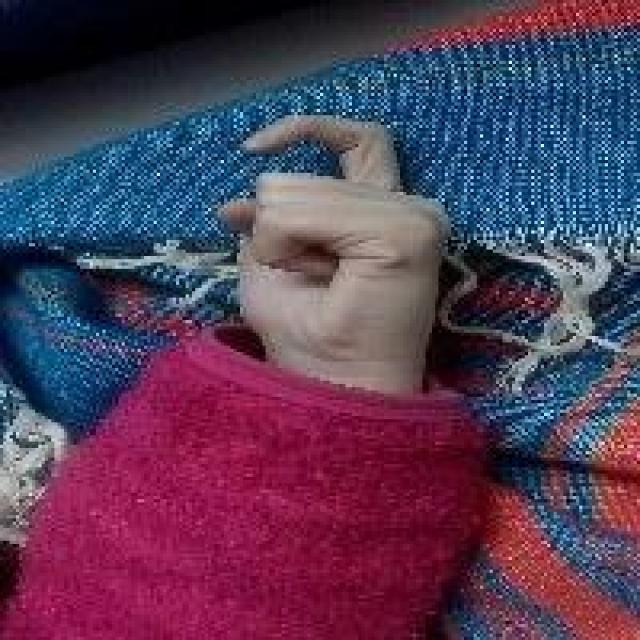X: (208, 96, 458, 381)
